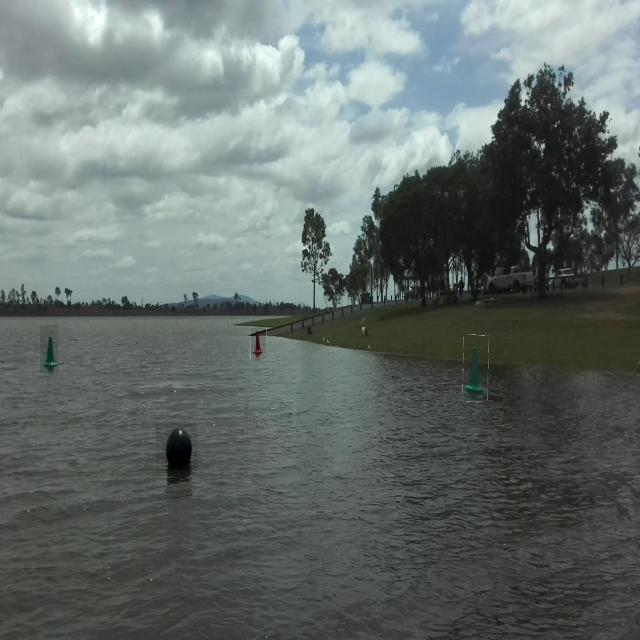Black_Buoy: (164, 411, 198, 478)
Green_Buoy: (460, 339, 498, 409), (40, 328, 61, 374)
Red_Buoy: (248, 326, 271, 361)
